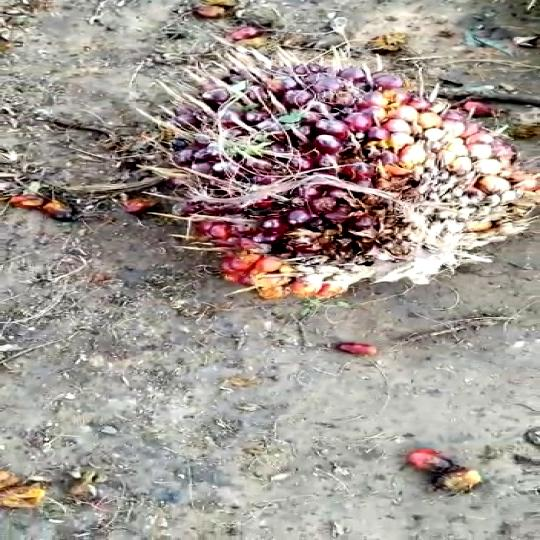masak: (114, 56, 540, 305)
